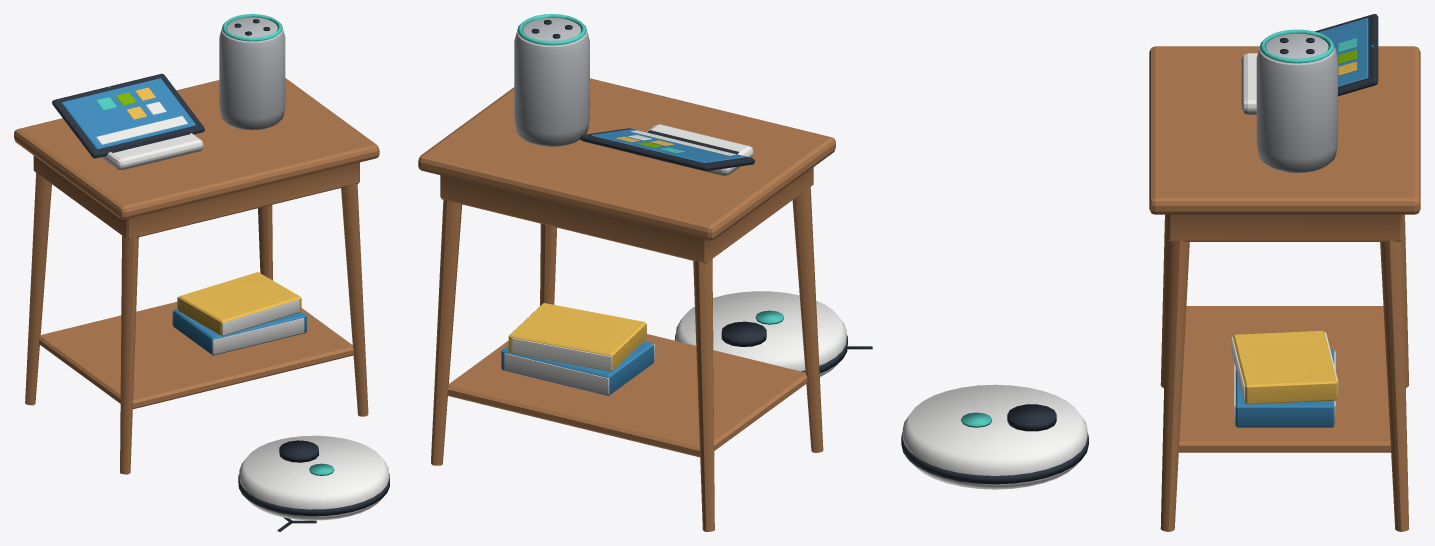
File: smartHub.glb
The picture shows the model from 3 angles, left to right: view 1: azimuth 30°, elevation 25°; view 2: azimuth 150°, elevation 25°; view 3: azimuth 270°, elevation 25°; orthographic projection. The views are drawn at different scales.
Visible parts, largest first — view 1: body, tablet; view 2: body, tablet; view 3: body, tablet.
Boxes of the visible parts, left/top/right/bottom form: body: left=14, top=14, right=389, bottom=531; tablet: left=52, top=73, right=204, bottom=158; body: left=418, top=14, right=872, bottom=531; tablet: left=580, top=128, right=754, bottom=171; body: left=901, top=29, right=1420, bottom=531; tablet: left=1315, top=14, right=1378, bottom=96.
Size of the model in its own units: 0.6 by 0.8056 by 0.842.
